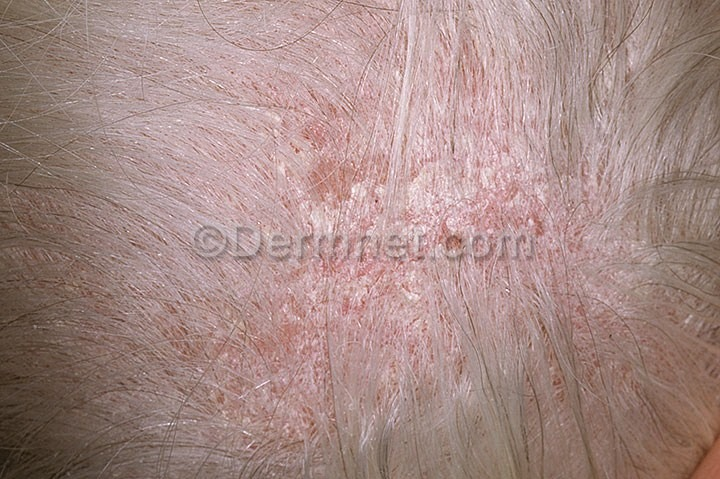Psoriasis: (256, 102, 617, 352)
